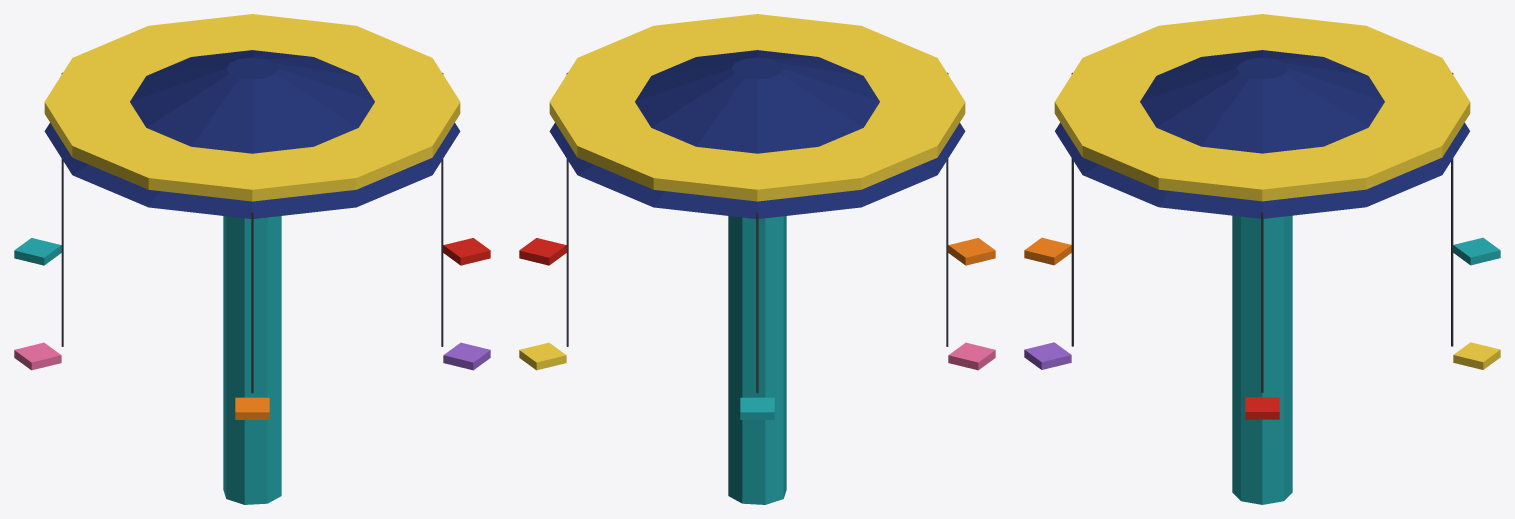
Rendered from swing_chair_ride.glb.
The picture shows the model from 3 angles, left to right: view 1: azimuth 30°, elevation 25°; view 2: azimuth 150°, elevation 25°; view 3: azimuth 270°, elevation 25°; orthographic projection.
Parts seen in each view (by area): view 1: swing_chair_ride; view 2: swing_chair_ride; view 3: swing_chair_ride.
Part boxes in pixels (x1=…): swing_chair_ride: x1=14, y1=14, x2=490, y2=504; swing_chair_ride: x1=519, y1=14, x2=995, y2=504; swing_chair_ride: x1=1024, y1=14, x2=1500, y2=504.
Bounding box in the file's own units: 6.12 × 5.4 × 5.5.
